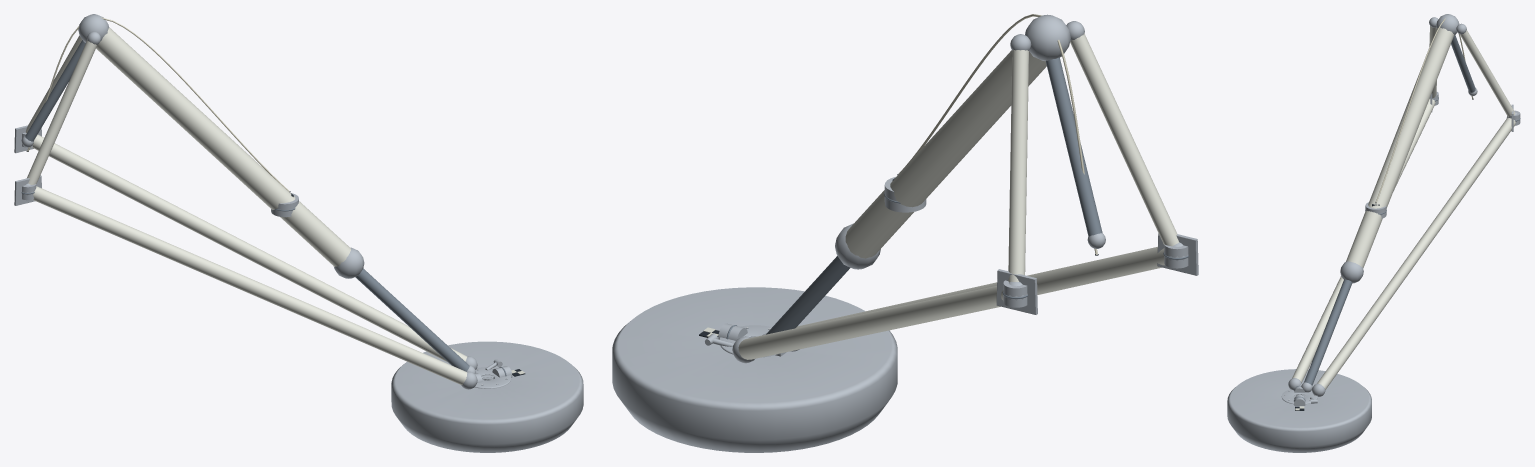
The model's file is surveyor-legs.glb.
The picture shows the model from 3 angles, left to right: view 1: azimuth 30°, elevation 25°; view 2: azimuth 150°, elevation 25°; view 3: azimuth 270°, elevation 25°; orthographic projection. The views are drawn at different scales.
Visible parts, largest first — view 1: FOOTPAD_2_Machined_aluminium, SHOCK_HOUSING_2_Surveyor_white_thermal_coating, LOWER_LEG_2_1_Surveyor_white_thermal_coating, LOWER_LEG_2_-1_Surveyor_white_thermal_coating, A_FRAME_2_1_Surveyor_white_thermal_coating, SHOCK_ROD_2_Steel_fixings, SHOCK_HOUSING_2_Machined_aluminium, LOCK_STRUT_2_Steel_fixings, LANDING_FRAME_2_Machined_aluminium, LEG_INSTRUMENT_LOOM_2_White_cable_sleeve; view 2: FOOTPAD_2_Machined_aluminium (×2), SHOCK_HOUSING_2_Surveyor_white_thermal_coating, LOWER_LEG_2_-1_Surveyor_white_thermal_coating, A_FRAME_2_-1_Surveyor_white_thermal_coating, A_FRAME_2_1_Surveyor_white_thermal_coating, LOWER_LEG_2_1_Surveyor_white_thermal_coating, LOCK_STRUT_2_Steel_fixings, LANDING_FRAME_2_Machined_aluminium, SHOCK_HOUSING_2_Machined_aluminium, SHOCK_ROD_2_Steel_fixings, LEG_INSTRUMENT_LOOM_2_White_cable_sleeve; view 3: FOOTPAD_2_Machined_aluminium, SHOCK_HOUSING_2_Surveyor_white_thermal_coating, LOWER_LEG_2_-1_Surveyor_white_thermal_coating, LOWER_LEG_2_1_Surveyor_white_thermal_coating, SHOCK_ROD_2_Steel_fixings, A_FRAME_2_-1_Surveyor_white_thermal_coating, SHOCK_HOUSING_2_Machined_aluminium, LOCK_STRUT_2_Steel_fixings, LEG_INSTRUMENT_LOOM_2_White_cable_sleeve, BORED_FLANGE_11_Machined_aluminium.
Part boxes in pixels (x1=…): FOOTPAD_2_Machined_aluminium: x1=391, y1=341, x2=583, y2=452; SHOCK_HOUSING_2_Surveyor_white_thermal_coating: x1=96, y1=27, x2=350, y2=266; LOWER_LEG_2_1_Surveyor_white_thermal_coating: x1=32, y1=186, x2=467, y2=384; LOWER_LEG_2_-1_Surveyor_white_thermal_coating: x1=31, y1=134, x2=467, y2=362; A_FRAME_2_1_Surveyor_white_thermal_coating: x1=27, y1=40, x2=97, y2=184; SHOCK_ROD_2_Steel_fixings: x1=355, y1=268, x2=469, y2=371; SHOCK_HOUSING_2_Machined_aluminium: x1=78, y1=14, x2=364, y2=278; LOCK_STRUT_2_Steel_fixings: x1=25, y1=40, x2=85, y2=141; LANDING_FRAME_2_Machined_aluminium: x1=14, y1=125, x2=41, y2=205; LEG_INSTRUMENT_LOOM_2_White_cable_sleeve: x1=27, y1=17, x2=289, y2=191; FOOTPAD_2_Machined_aluminium (×2): x1=612, y1=287, x2=897, y2=452; SHOCK_HOUSING_2_Surveyor_white_thermal_coating: x1=845, y1=50, x2=1046, y2=258; LOWER_LEG_2_-1_Surveyor_white_thermal_coating: x1=738, y1=286, x2=1003, y2=359; A_FRAME_2_-1_Surveyor_white_thermal_coating: x1=1008, y1=50, x2=1028, y2=282; A_FRAME_2_1_Surveyor_white_thermal_coating: x1=1070, y1=33, x2=1178, y2=246; LOWER_LEG_2_1_Surveyor_white_thermal_coating: x1=796, y1=246, x2=1164, y2=328; LOCK_STRUT_2_Steel_fixings: x1=1045, y1=57, x2=1102, y2=236; LANDING_FRAME_2_Machined_aluminium: x1=996, y1=233, x2=1198, y2=314; SHOCK_HOUSING_2_Machined_aluminium: x1=835, y1=14, x2=1070, y2=269; SHOCK_ROD_2_Steel_fixings: x1=766, y1=256, x2=850, y2=334; LEG_INSTRUMENT_LOOM_2_White_cable_sleeve: x1=898, y1=14, x2=1097, y2=254; FOOTPAD_2_Machined_aluminium: x1=1227, y1=369, x2=1371, y2=452; SHOCK_HOUSING_2_Surveyor_white_thermal_coating: x1=1346, y1=27, x2=1454, y2=267; LOWER_LEG_2_-1_Surveyor_white_thermal_coating: x1=1317, y1=117, x2=1515, y2=389; LOWER_LEG_2_1_Surveyor_white_thermal_coating: x1=1292, y1=99, x2=1435, y2=382; SHOCK_ROD_2_Steel_fixings: x1=1304, y1=279, x2=1352, y2=385; A_FRAME_2_-1_Surveyor_white_thermal_coating: x1=1459, y1=30, x2=1515, y2=116; SHOCK_HOUSING_2_Machined_aluminium: x1=1340, y1=14, x2=1459, y2=283; LOCK_STRUT_2_Steel_fixings: x1=1451, y1=35, x2=1475, y2=92; LEG_INSTRUMENT_LOOM_2_White_cable_sleeve: x1=1375, y1=18, x2=1473, y2=202; BORED_FLANGE_11_Machined_aluminium: x1=1281, y1=389, x2=1317, y2=404.
Size of the model in its own units: 1.43 by 1.2 by 1.03.
